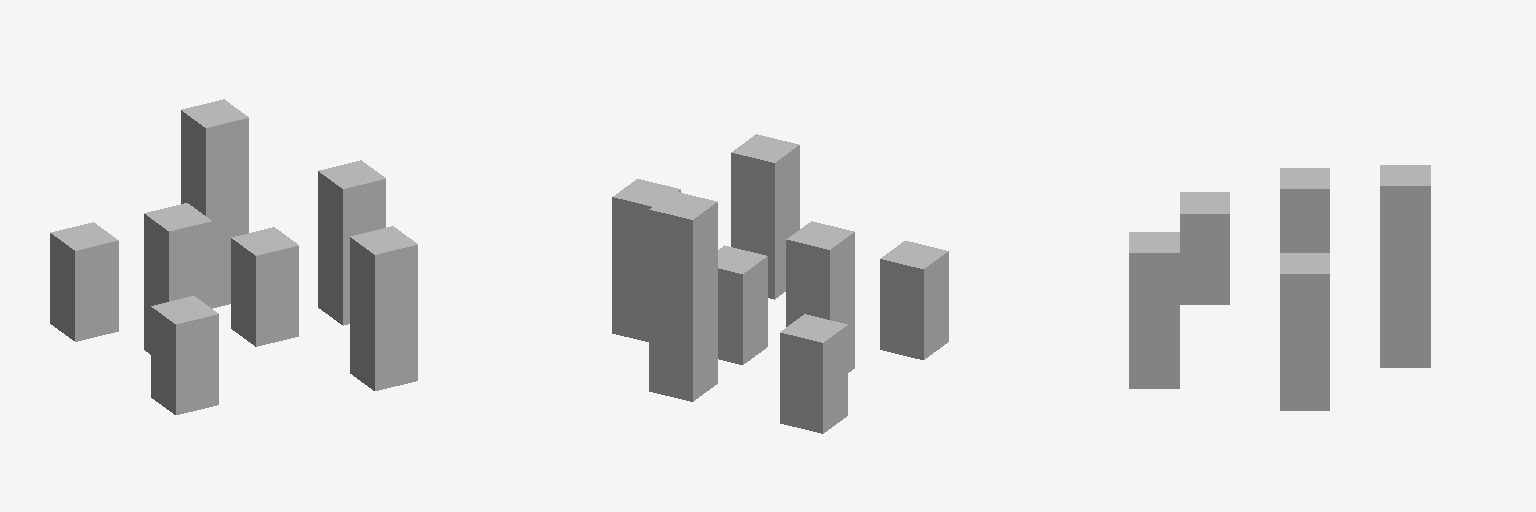
The model's file is Grass.obj.
3 renders of one model, left to right at view 1: azimuth 30°, elevation 25°; view 2: azimuth 150°, elevation 25°; view 3: azimuth 270°, elevation 25°, orthographic.
Bounding box in the file's own units: 6 × 4 × 6.